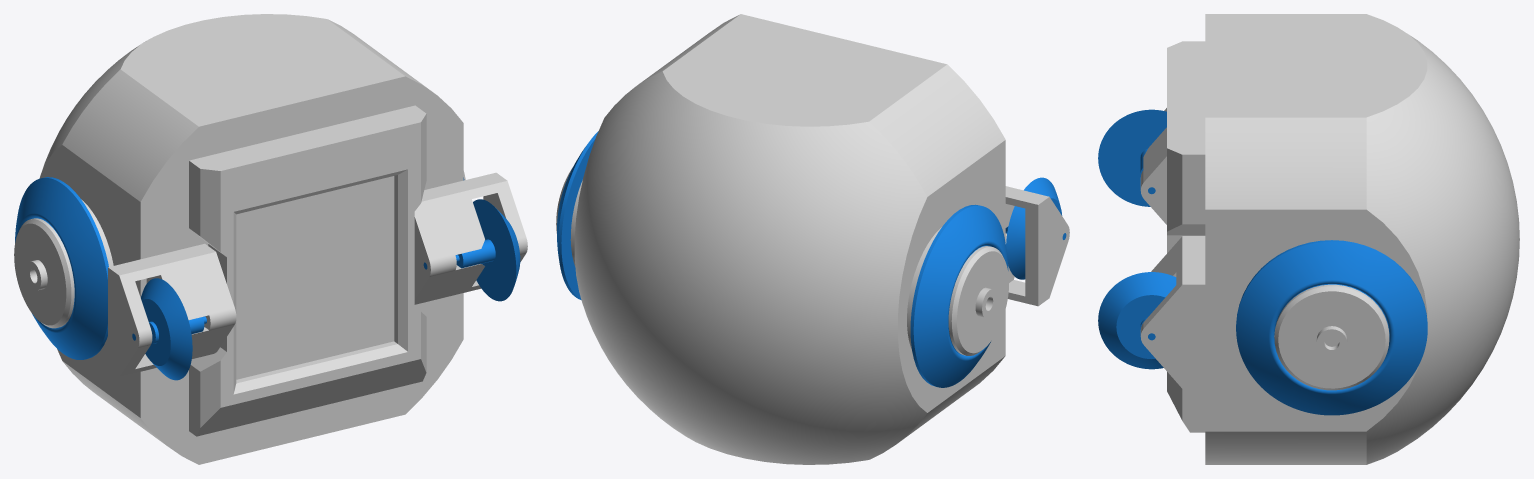
File: spheroboltplus_robot.glb
The picture shows the model from 3 angles, left to right: view 1: azimuth 30°, elevation 25°; view 2: azimuth 150°, elevation 25°; view 3: azimuth 270°, elevation 25°; orthographic projection. The views are drawn at different scales.
Visible parts, largest first — view 1: SPHEROBOLTPLUS_Bottom-1, SPHEROBOLTPLUS_DISPLAY-1, SPHEROBOLTPLUS_IdlerHolder-1.001, SPHEROBOLTPLUS_IdlerHolder-1, SPHEROBOLTPLUS_Wheel-1, SPHEROBOLTPLUS_Wheelrim-1, SPHEROBOLTPLUS_IdlerWheel-1.001, SPHEROBOLTPLUS_IdlerWheel-1; view 2: SPHEROBOLTPLUS_Bottom-1, SPHEROBOLTPLUS_Wheel-1, SPHEROBOLTPLUS_Wheelrim-1, SPHEROBOLTPLUS_IdlerHolder-1.001, SPHEROBOLTPLUS_Wheel-1.001, SPHEROBOLTPLUS_IdlerWheel-1.001; view 3: SPHEROBOLTPLUS_Bottom-1, SPHEROBOLTPLUS_Wheel-1.001, SPHEROBOLTPLUS_Wheelrim-1.001, SPHEROBOLTPLUS_DISPLAY-1, SPHEROBOLTPLUS_IdlerHolder-1, SPHEROBOLTPLUS_IdlerWheel-1, SPHEROBOLTPLUS_IdlerWheel-1.001, SPHEROBOLTPLUS_IdlerHolder-1.001.
Part boxes in pixels (bbox=[...]): SPHEROBOLTPLUS_Bottom-1: bbox=[39, 14, 463, 464]; SPHEROBOLTPLUS_DISPLAY-1: bbox=[189, 105, 426, 436]; SPHEROBOLTPLUS_IdlerHolder-1.001: bbox=[108, 243, 236, 376]; SPHEROBOLTPLUS_IdlerHolder-1: bbox=[414, 172, 527, 304]; SPHEROBOLTPLUS_Wheel-1: bbox=[15, 177, 108, 359]; SPHEROBOLTPLUS_Wheelrim-1: bbox=[14, 199, 113, 328]; SPHEROBOLTPLUS_IdlerWheel-1.001: bbox=[132, 278, 206, 380]; SPHEROBOLTPLUS_IdlerWheel-1: bbox=[423, 199, 520, 301]; SPHEROBOLTPLUS_Bottom-1: bbox=[574, 14, 1005, 464]; SPHEROBOLTPLUS_Wheel-1: bbox=[910, 204, 1008, 387]; SPHEROBOLTPLUS_Wheelrim-1: bbox=[907, 227, 1008, 355]; SPHEROBOLTPLUS_IdlerHolder-1.001: bbox=[1005, 186, 1069, 306]; SPHEROBOLTPLUS_Wheel-1.001: bbox=[557, 131, 598, 299]; SPHEROBOLTPLUS_IdlerWheel-1.001: bbox=[1005, 177, 1066, 279]; SPHEROBOLTPLUS_Bottom-1: bbox=[1205, 14, 1519, 464]; SPHEROBOLTPLUS_Wheel-1.001: bbox=[1236, 240, 1427, 415]; SPHEROBOLTPLUS_Wheelrim-1.001: bbox=[1274, 284, 1389, 390]; SPHEROBOLTPLUS_DISPLAY-1: bbox=[1167, 41, 1205, 432]; SPHEROBOLTPLUS_IdlerHolder-1: bbox=[1140, 236, 1205, 388]; SPHEROBOLTPLUS_IdlerWheel-1: bbox=[1098, 272, 1176, 369]; SPHEROBOLTPLUS_IdlerWheel-1.001: bbox=[1098, 109, 1166, 206]; SPHEROBOLTPLUS_IdlerHolder-1.001: bbox=[1140, 108, 1166, 224].
Size of the model in its own units: 0.064 by 0.05 by 0.055.
